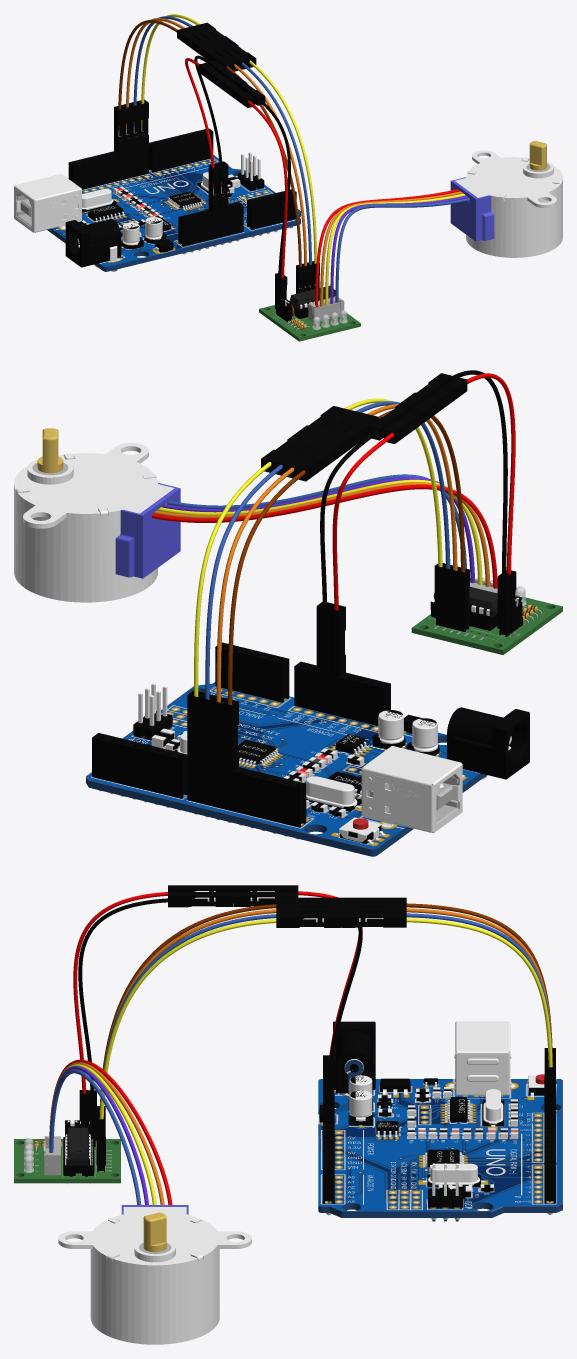
The model's file is aula_28_-_motor_de_passo_compressed.glb.
3 renders of one model, top to bottom at view 1: azimuth 30°, elevation 25°; view 2: azimuth 150°, elevation 25°; view 3: azimuth 270°, elevation 25°, orthographic. The views are drawn at different scales.
Visible parts, largest first — view 1: PlasticoPreto_020-material, Metal_Fosco-material, PCB_topo_004-material, Metal_017-material (×3), PlasticoPreto_003-material (×9), Material-material (×3), Material_003-material (×3), vermelho-material (×3), Azul_Servo-material, laranja-material (×3), verde-material, Material_106-material (+7 smaller); view 2: PlasticoPreto_020-material, Metal_Fosco-material, PlasticoPreto_003-material (×12), Metal_017-material (×4), PCB_topo_004-material, vermelho-material (×3), Azul_Servo-material, laranja-material (×3), Material_003-material (×3), Material-material (×3), Material_106-material, verde-material (+8 smaller); view 3: PCB_topo_004-material, Metal_Fosco-material, Metal_017-material (×3), PlasticoPreto_003-material (×8), PlasticoPreto_020-material, Material_003-material (×3), Material-material (×3), verde-material, laranja-material (×3), Material_106-material, vermelho-material (×2), Lente_camera_001-material (×2) (+7 smaller).
Part boxes in pixels (box(x1,y1,x2,y2)): PlasticoPreto_020-material: box(65, 128, 296, 267); Metal_Fosco-material: box(455, 150, 562, 257); PCB_topo_004-material: box(52, 154, 300, 266); Metal_017-material (×3): box(14, 152, 292, 271); PlasticoPreto_003-material (×9): box(114, 22, 265, 212); Material-material (×3): box(133, 16, 469, 302); Material_003-material (×3): box(141, 14, 465, 304); vermelho-material (×3): box(185, 58, 459, 307); Azul_Servo-material: box(450, 177, 494, 241); laranja-material (×3): box(126, 18, 463, 306); verde-material: box(259, 305, 360, 341); Material_106-material: box(47, 171, 300, 271); PlasticoPreto_020-material: box(92, 642, 529, 843); Metal_Fosco-material: box(14, 443, 174, 602); PlasticoPreto_003-material (×12): box(187, 373, 467, 771); Metal_017-material (×4): box(98, 683, 511, 844); PCB_topo_004-material: box(86, 682, 479, 849); vermelho-material (×3): box(151, 373, 515, 610); Azul_Servo-material: box(115, 483, 180, 578); laranja-material (×3): box(153, 404, 490, 702); Material_003-material (×3): box(158, 398, 482, 696); Material-material (×3): box(167, 401, 466, 699); Material_106-material: box(86, 688, 486, 856); verde-material: box(411, 595, 562, 654); PCB_topo_004-material: box(318, 1079, 562, 1211); Metal_Fosco-material: box(58, 1207, 251, 1344); Metal_017-material (×3): box(327, 1021, 551, 1221); PlasticoPreto_003-material (×8): box(168, 885, 555, 1126); PlasticoPreto_020-material: box(319, 1021, 556, 1208); Material_003-material (×3): box(49, 918, 552, 1204); Material-material (×3): box(49, 913, 552, 1204); verde-material: box(14, 1139, 120, 1183); laranja-material (×3): box(49, 908, 552, 1204); Material_106-material: box(318, 1060, 562, 1221); vermelho-material (×2): box(49, 892, 172, 1204); Lente_camera_001-material (×2): box(78, 898, 362, 1093).
Size of the model in its own units: 0.1362 by 0.0638 by 0.119.
30 materials, 2 textured.
